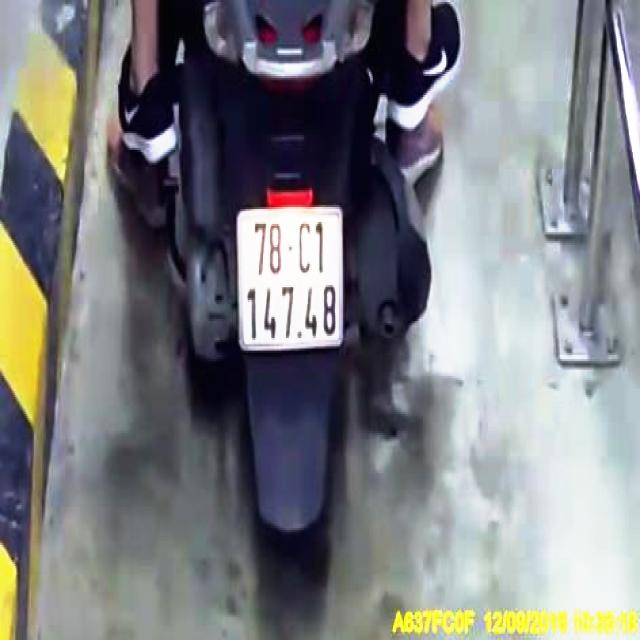license_plate: (235, 207, 344, 355)
